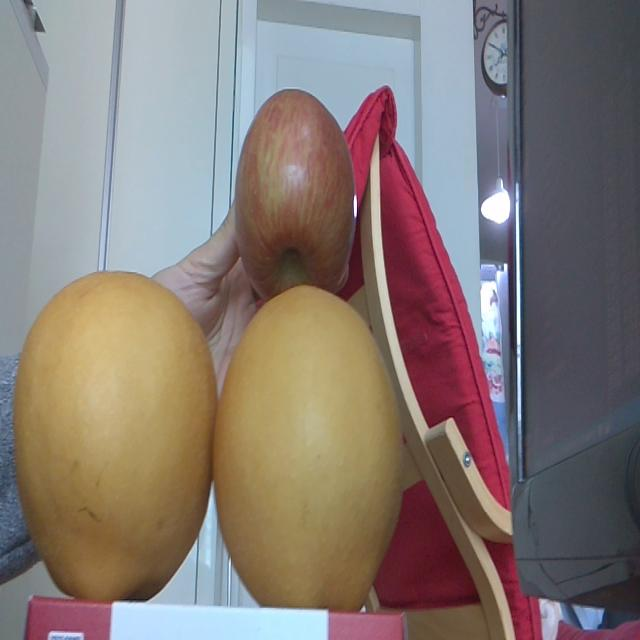apple: (234, 87, 354, 284)
pear: (13, 270, 214, 598), (214, 288, 406, 606)
